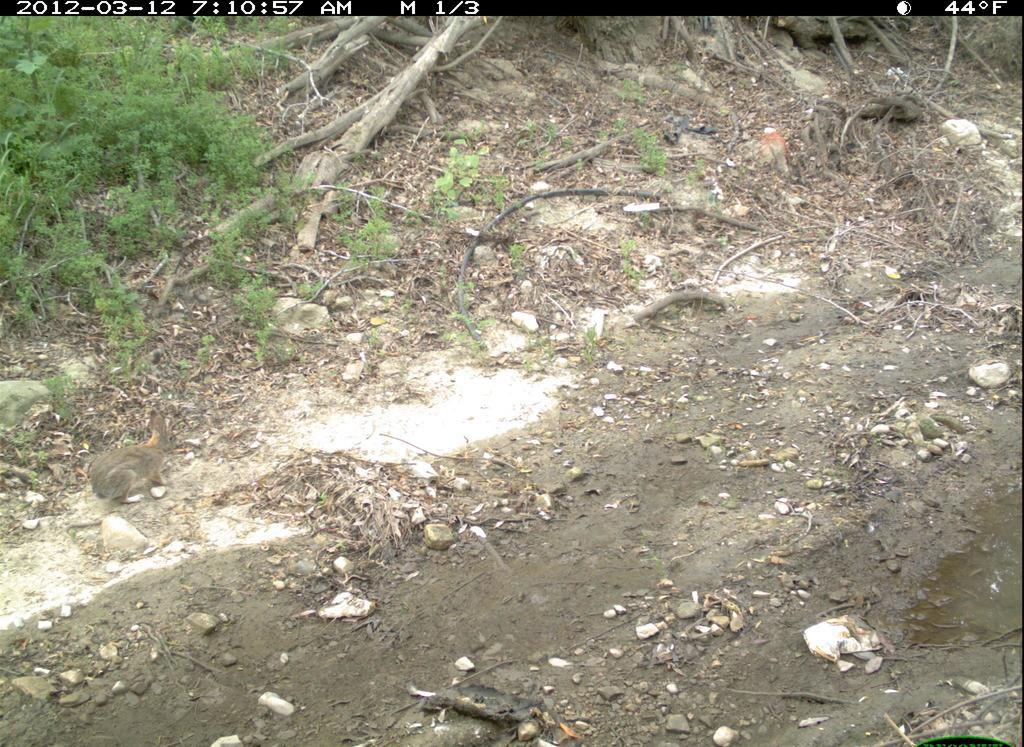rabbit: (84, 408, 189, 513)
